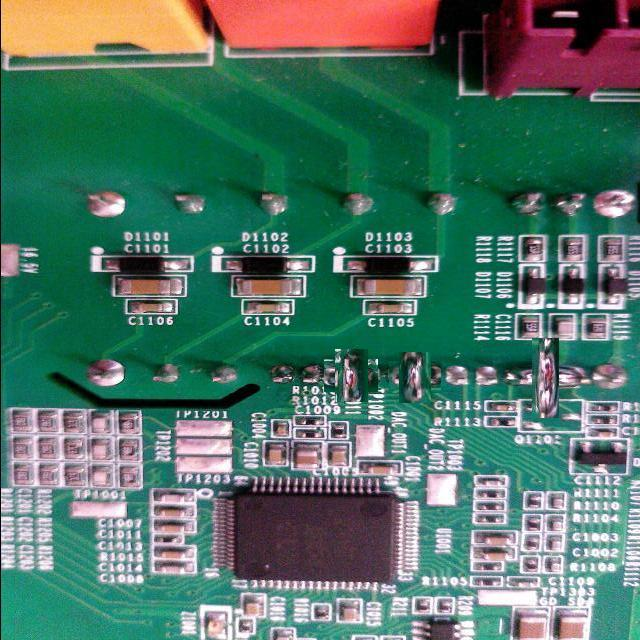Short_circuit: (518, 351, 572, 405), (330, 354, 373, 397), (394, 356, 436, 398)
